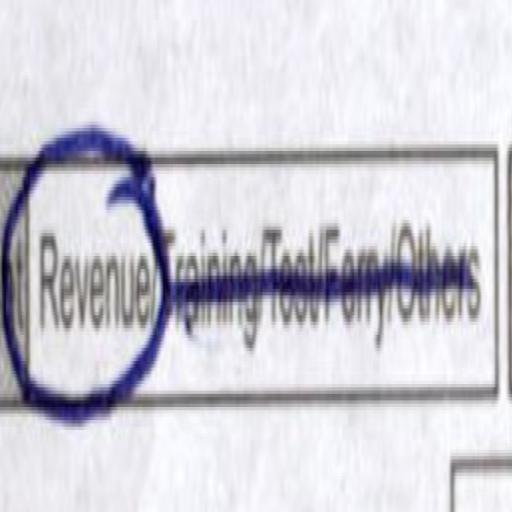check: (27, 106, 157, 456)
